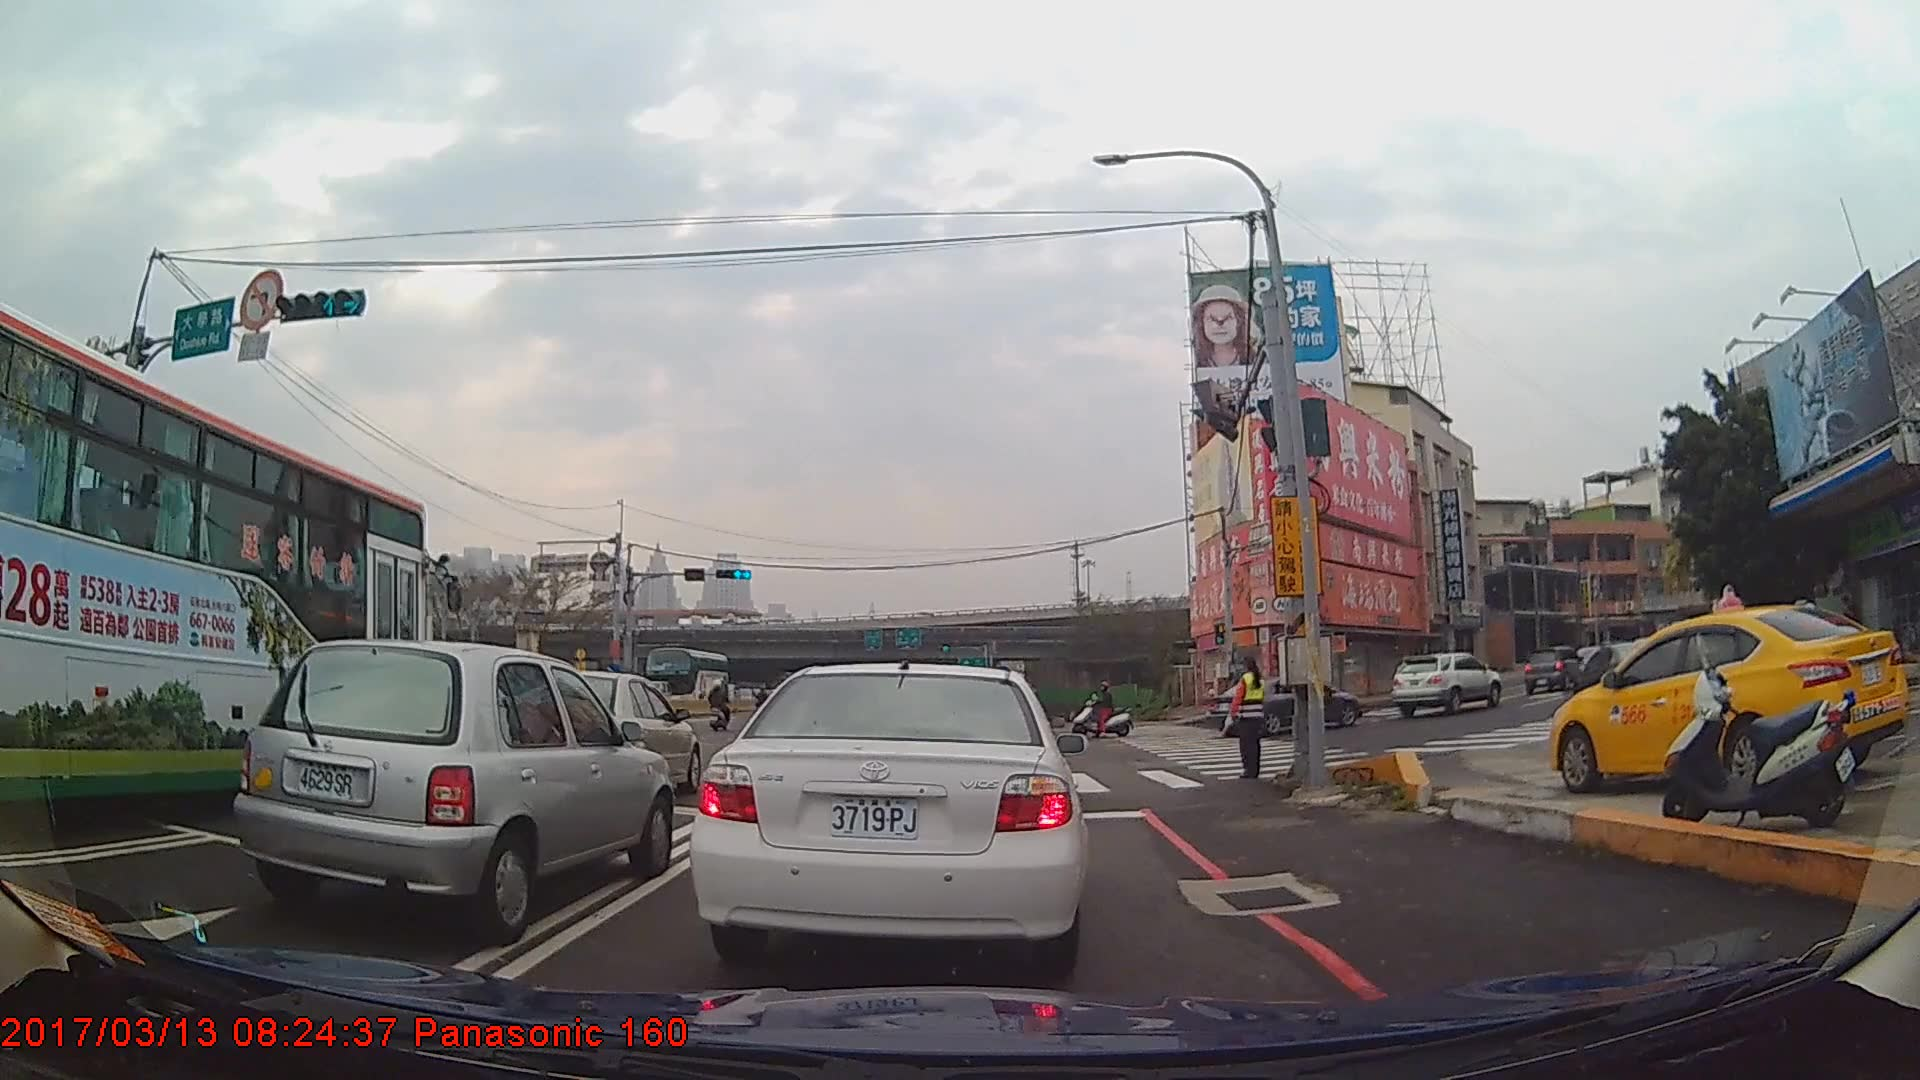pedestrian: (1225, 657, 1271, 781)
rider: (1073, 682, 1135, 740), (707, 678, 733, 734)
vehicle: (0, 297, 424, 841), (230, 638, 676, 942), (691, 662, 1083, 968), (1549, 603, 1907, 793), (511, 668, 702, 801), (1204, 675, 1362, 739), (1392, 651, 1500, 718), (644, 644, 728, 707), (1521, 647, 1585, 693)
